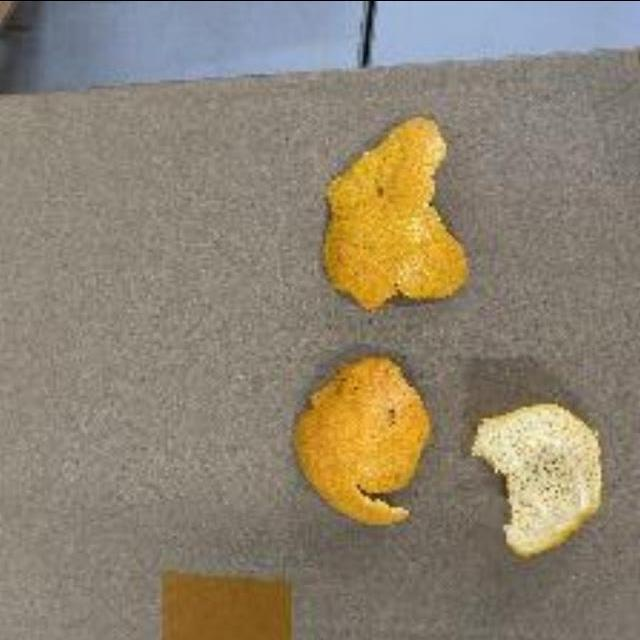orange peel: (320, 112, 474, 303), (292, 354, 436, 529), (469, 386, 604, 564)
